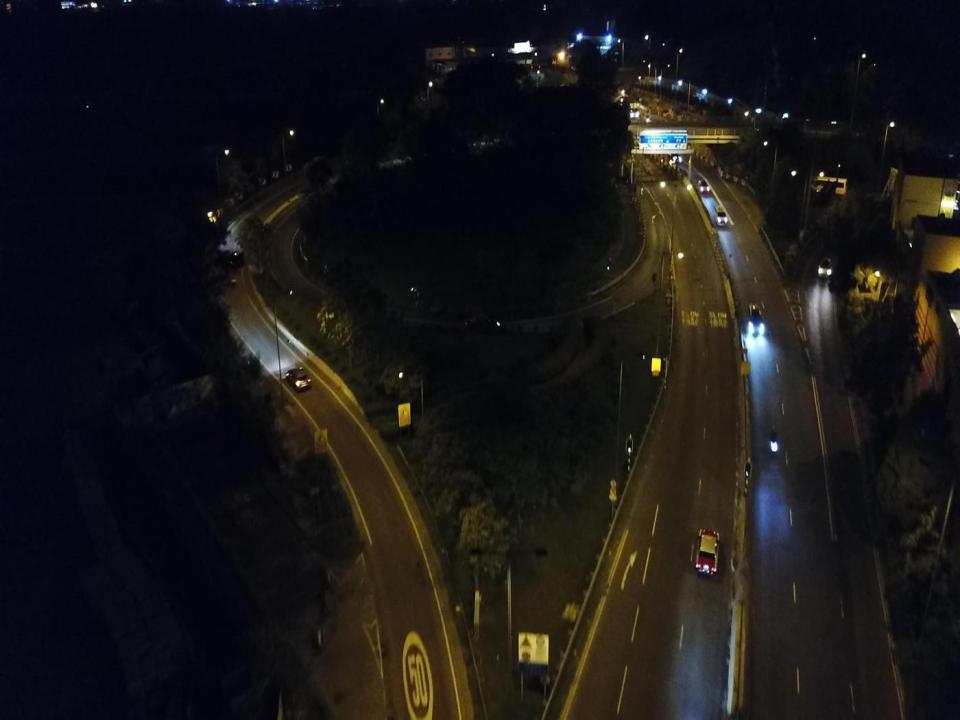car: (696, 527, 719, 578), (286, 367, 312, 392), (464, 313, 500, 331), (749, 302, 765, 332), (818, 256, 833, 279), (228, 250, 244, 270), (698, 178, 710, 193), (669, 150, 682, 163)
truck: (629, 101, 640, 119)
van: (714, 204, 727, 226)
